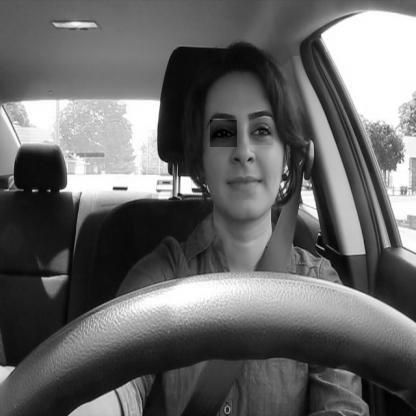seatbelt: (177, 41, 301, 411)
